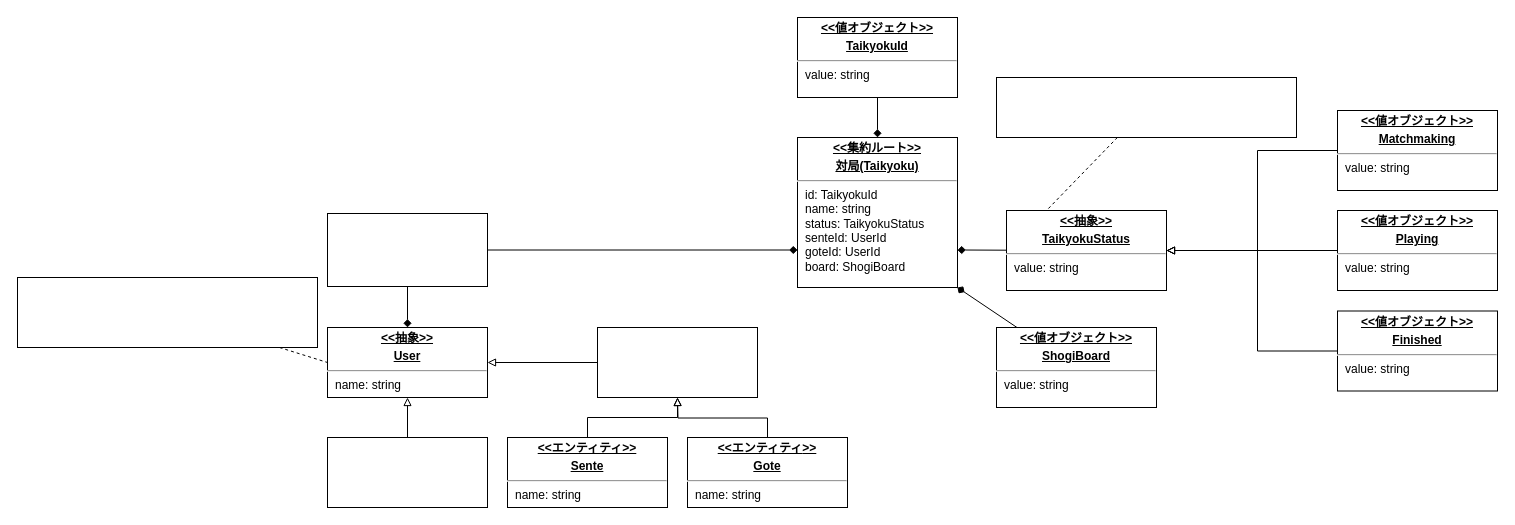
This 1515x525 diagram has some shape labels left out. Each missing label, with the centre of its shape:
<<エンティティ>> Audience name: string: point 407,472
<<値オブジェクト>> UserId value: string: point 407,249
<<抽象>> Player name: string: point 677,362
・ログインしたユーザーはまずは観客として存在する ・観客は対局部屋を新たに作成できる ・対局するユーザーはプレイヤーとなる: point 167,312
・新規作成時は「対局相手募集中」ステータス ・プレイヤーが2人揃うと「対局中」ステータス ・対局が終了すると「終了」ステータス: point 1146,107
